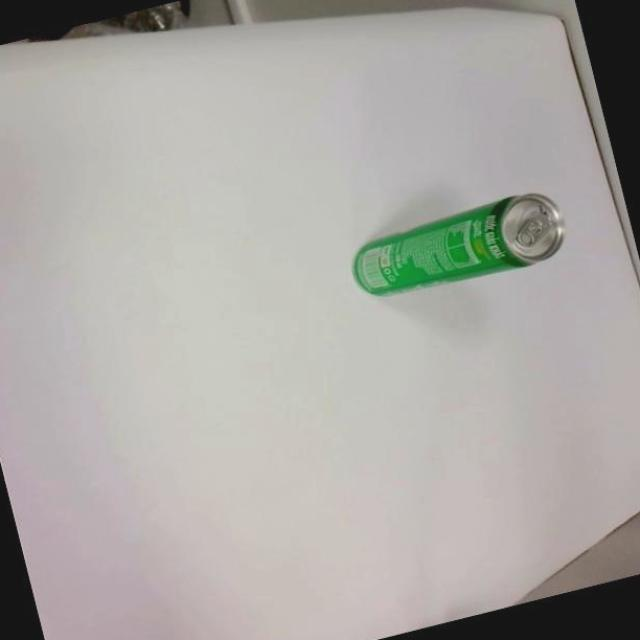debris: (342, 182, 574, 308)
